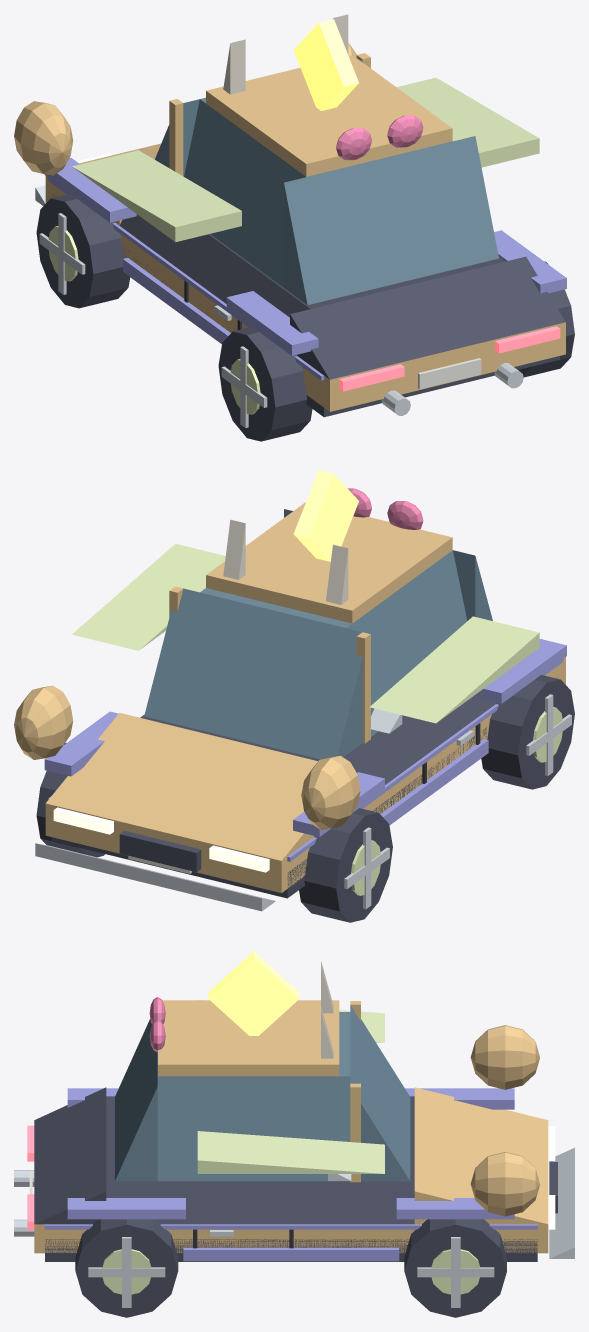
Rendered from clockwork_crab.glb.
3 renders of one model, top to bottom at view 1: azimuth 30°, elevation 25°; view 2: azimuth 150°, elevation 25°; view 3: azimuth 270°, elevation 25°, orthographic. The views are drawn at different scales.
Visible parts, largest first — view 1: RearWindow.219, Tail.119, Roof.319, CabinSideL.116, Body.319, Wing_L.010, Wheel_RL.259, Wheel_FL.259, ShoulderL.116, Wing_R.010, Star.010, Claw-1.008 (+20 smaller); view 2: Windshield.219, Nose.116, Roof.319, Wing_L.010, CabinSideL.116, Body.319, Wing_R.010, Wheel_RL.259, Wheel_FL.259, ShoulderL.116, Star.010, Bumper.315 (+24 smaller); view 3: CabinSideR.116, Roof.319, Nose.116, ShoulderR.116, Tail.119, Wing_R.010, Body.319, Windshield.219, Wheel_RR.259, Wheel_FR.259, RearWindow.219, Star.010 (+20 smaller).
Part boxes in pixels (<box>): RearWindow.219: <box>284,136,498,304</box>; Tail.119: <box>290,256,565,379</box>; Roof.319: <box>206,55,452,176</box>; CabinSideL.116: <box>184,99,305,287</box>; Body.319: <box>45,176,565,411</box>; Wing_L.010: <box>72,150,241,242</box>; Wheel_RL.259: <box>218,327,312,441</box>; Wheel_FL.259: <box>36,193,130,308</box>; ShoulderL.116: <box>119,214,310,317</box>; Wing_R.010: <box>396,77,539,167</box>; Star.010: <box>293,19,358,110</box>; Claw-1.008: <box>14,101,73,175</box>; Windshield.219: <box>144,588,362,759</box>; Nose.116: <box>46,713,317,860</box>; Roof.319: <box>206,502,452,623</box>; Wing_L.010: <box>369,616,539,723</box>; CabinSideL.116: <box>346,550,467,736</box>; Body.319: <box>45,657,565,892</box>; Wing_R.010: <box>72,543,225,650</box>; Wheel_RL.259: <box>481,675,574,789</box>; Wheel_FL.259: <box>299,808,392,922</box>; ShoulderL.116: <box>345,695,495,784</box>; Star.010: <box>293,470,358,561</box>; Bumper.315: <box>35,843,275,911</box>; CabinSideR.116: <box>157,1076,350,1181</box>; Roof.319: <box>158,1000,339,1076</box>; Nose.116: <box>414,1087,548,1224</box>; ShoulderR.116: <box>106,1182,414,1224</box>; Tail.119: <box>34,1087,106,1224</box>; Wing_R.010: <box>197,1131,384,1173</box>; Body.319: <box>34,1224,548,1253</box>; Windshield.219: <box>350,1005,410,1181</box>; Wheel_RR.259: <box>75,1219,178,1317</box>; Wheel_FR.259: <box>404,1219,506,1317</box>; RearWindow.219: <box>115,1019,157,1181</box>; Star.010: <box>208,951,299,1035</box>.
Bounding box in the file's own units: 3.55 × 3.06 × 5.24.
